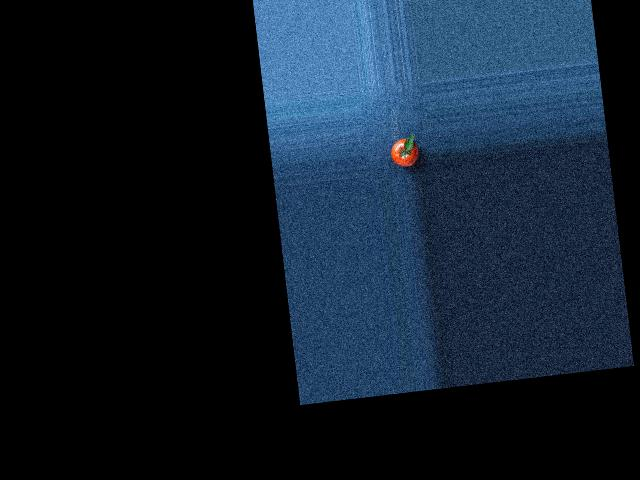tomato: (390, 137, 419, 168)
